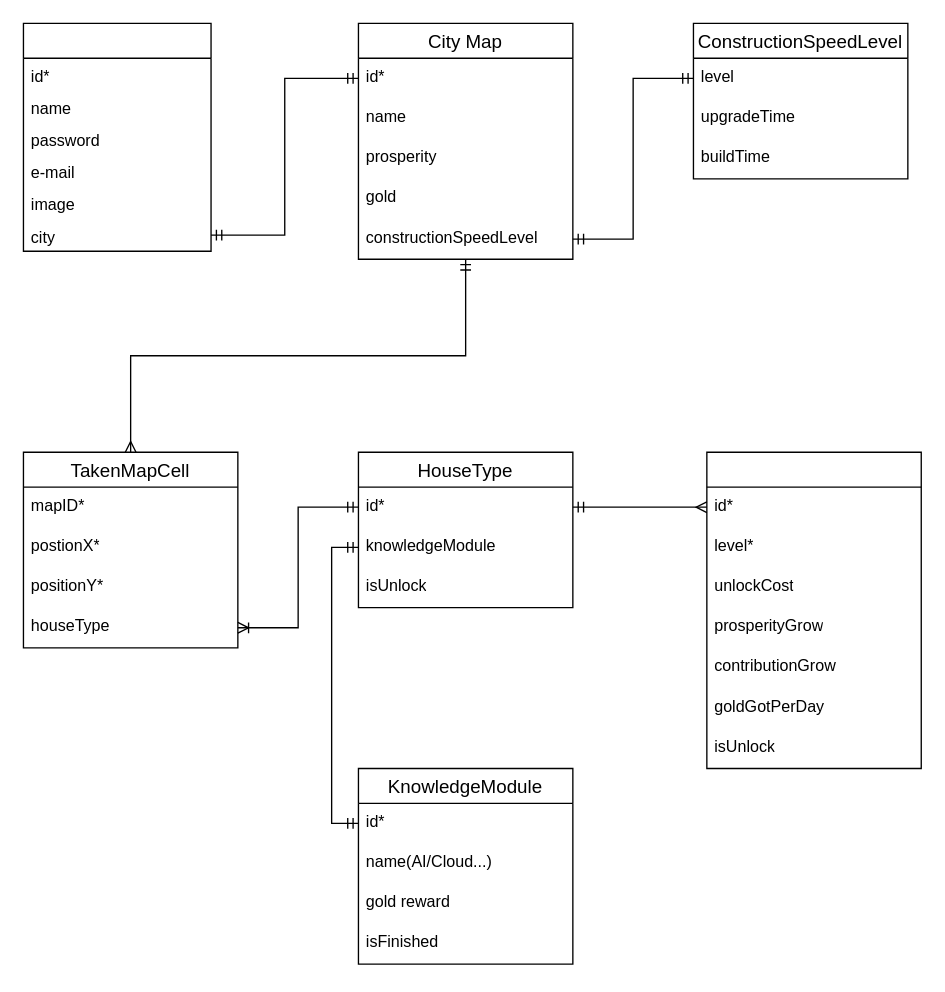
Some shapes in this 945 by 992 pixel diagram are drawn without their labels. The shapes that lost their labels are listed below. From the top down, each one's box as (x1, y1, x2, y2) in pixels, then its label:
(22, 22, 211, 251): User
(706, 451, 921, 768): HouseData
